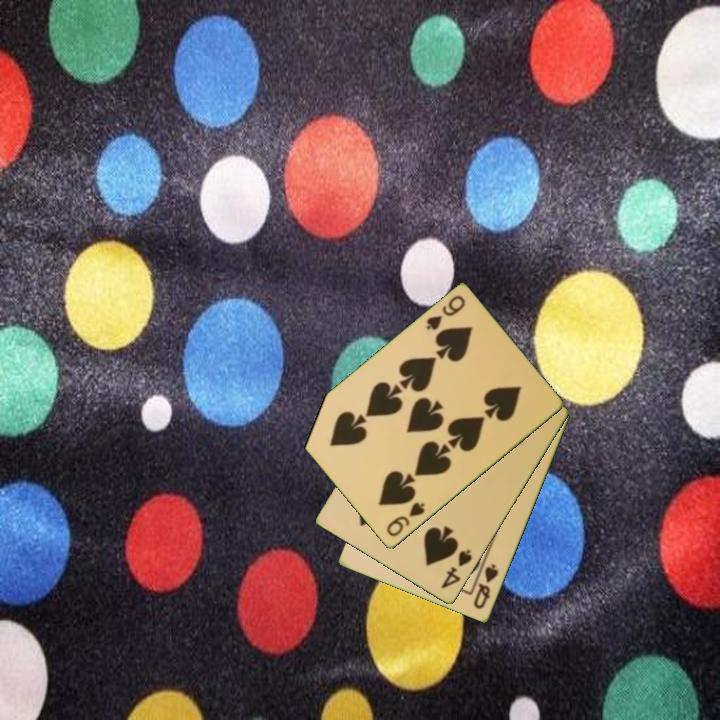4s: (437, 546, 475, 592)
9s: (422, 292, 468, 334), (383, 499, 428, 540)
Qs: (470, 560, 502, 612)
